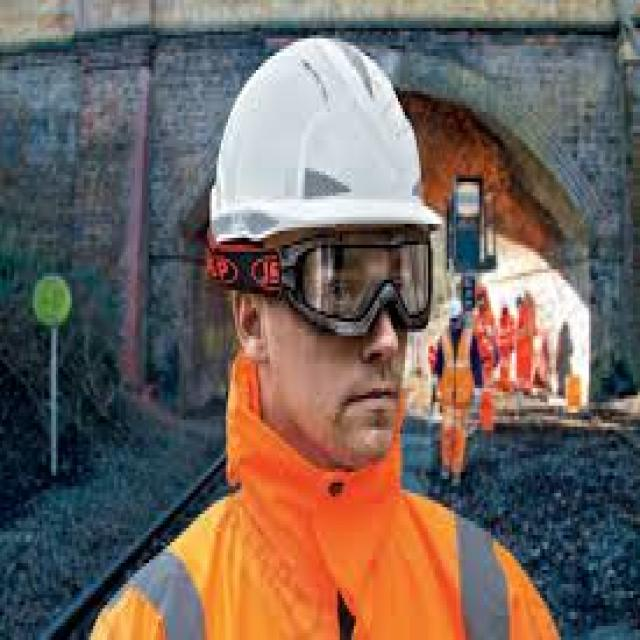glasses: (279, 236, 440, 345)
